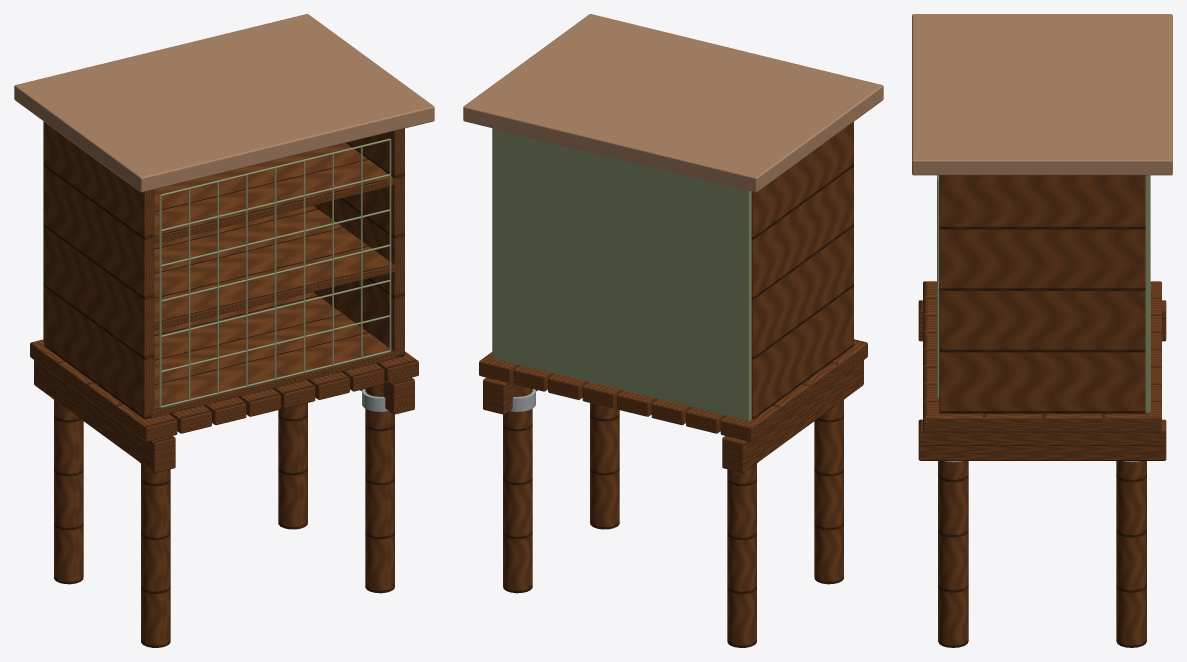
Rendered from flooded-and-coastal-survival-elevated-pantry-469381db__20049.glb.
3 renders of one model, left to right at view 1: azimuth 30°, elevation 25°; view 2: azimuth 150°, elevation 25°; view 3: azimuth 270°, elevation 25°, orthographic. The views are drawn at different scales.
Parts seen in each view (by area): view 1: elevated-pantry; view 2: elevated-pantry; view 3: elevated-pantry.
Boxes of the visible parts, x1,y1,x2,y2 form: elevated-pantry: [14, 14, 434, 647]; elevated-pantry: [463, 14, 883, 647]; elevated-pantry: [912, 14, 1172, 647].
Bounding box in the file's own units: 1.6 × 2.53 × 1.2.
4 materials, 1 textured.
